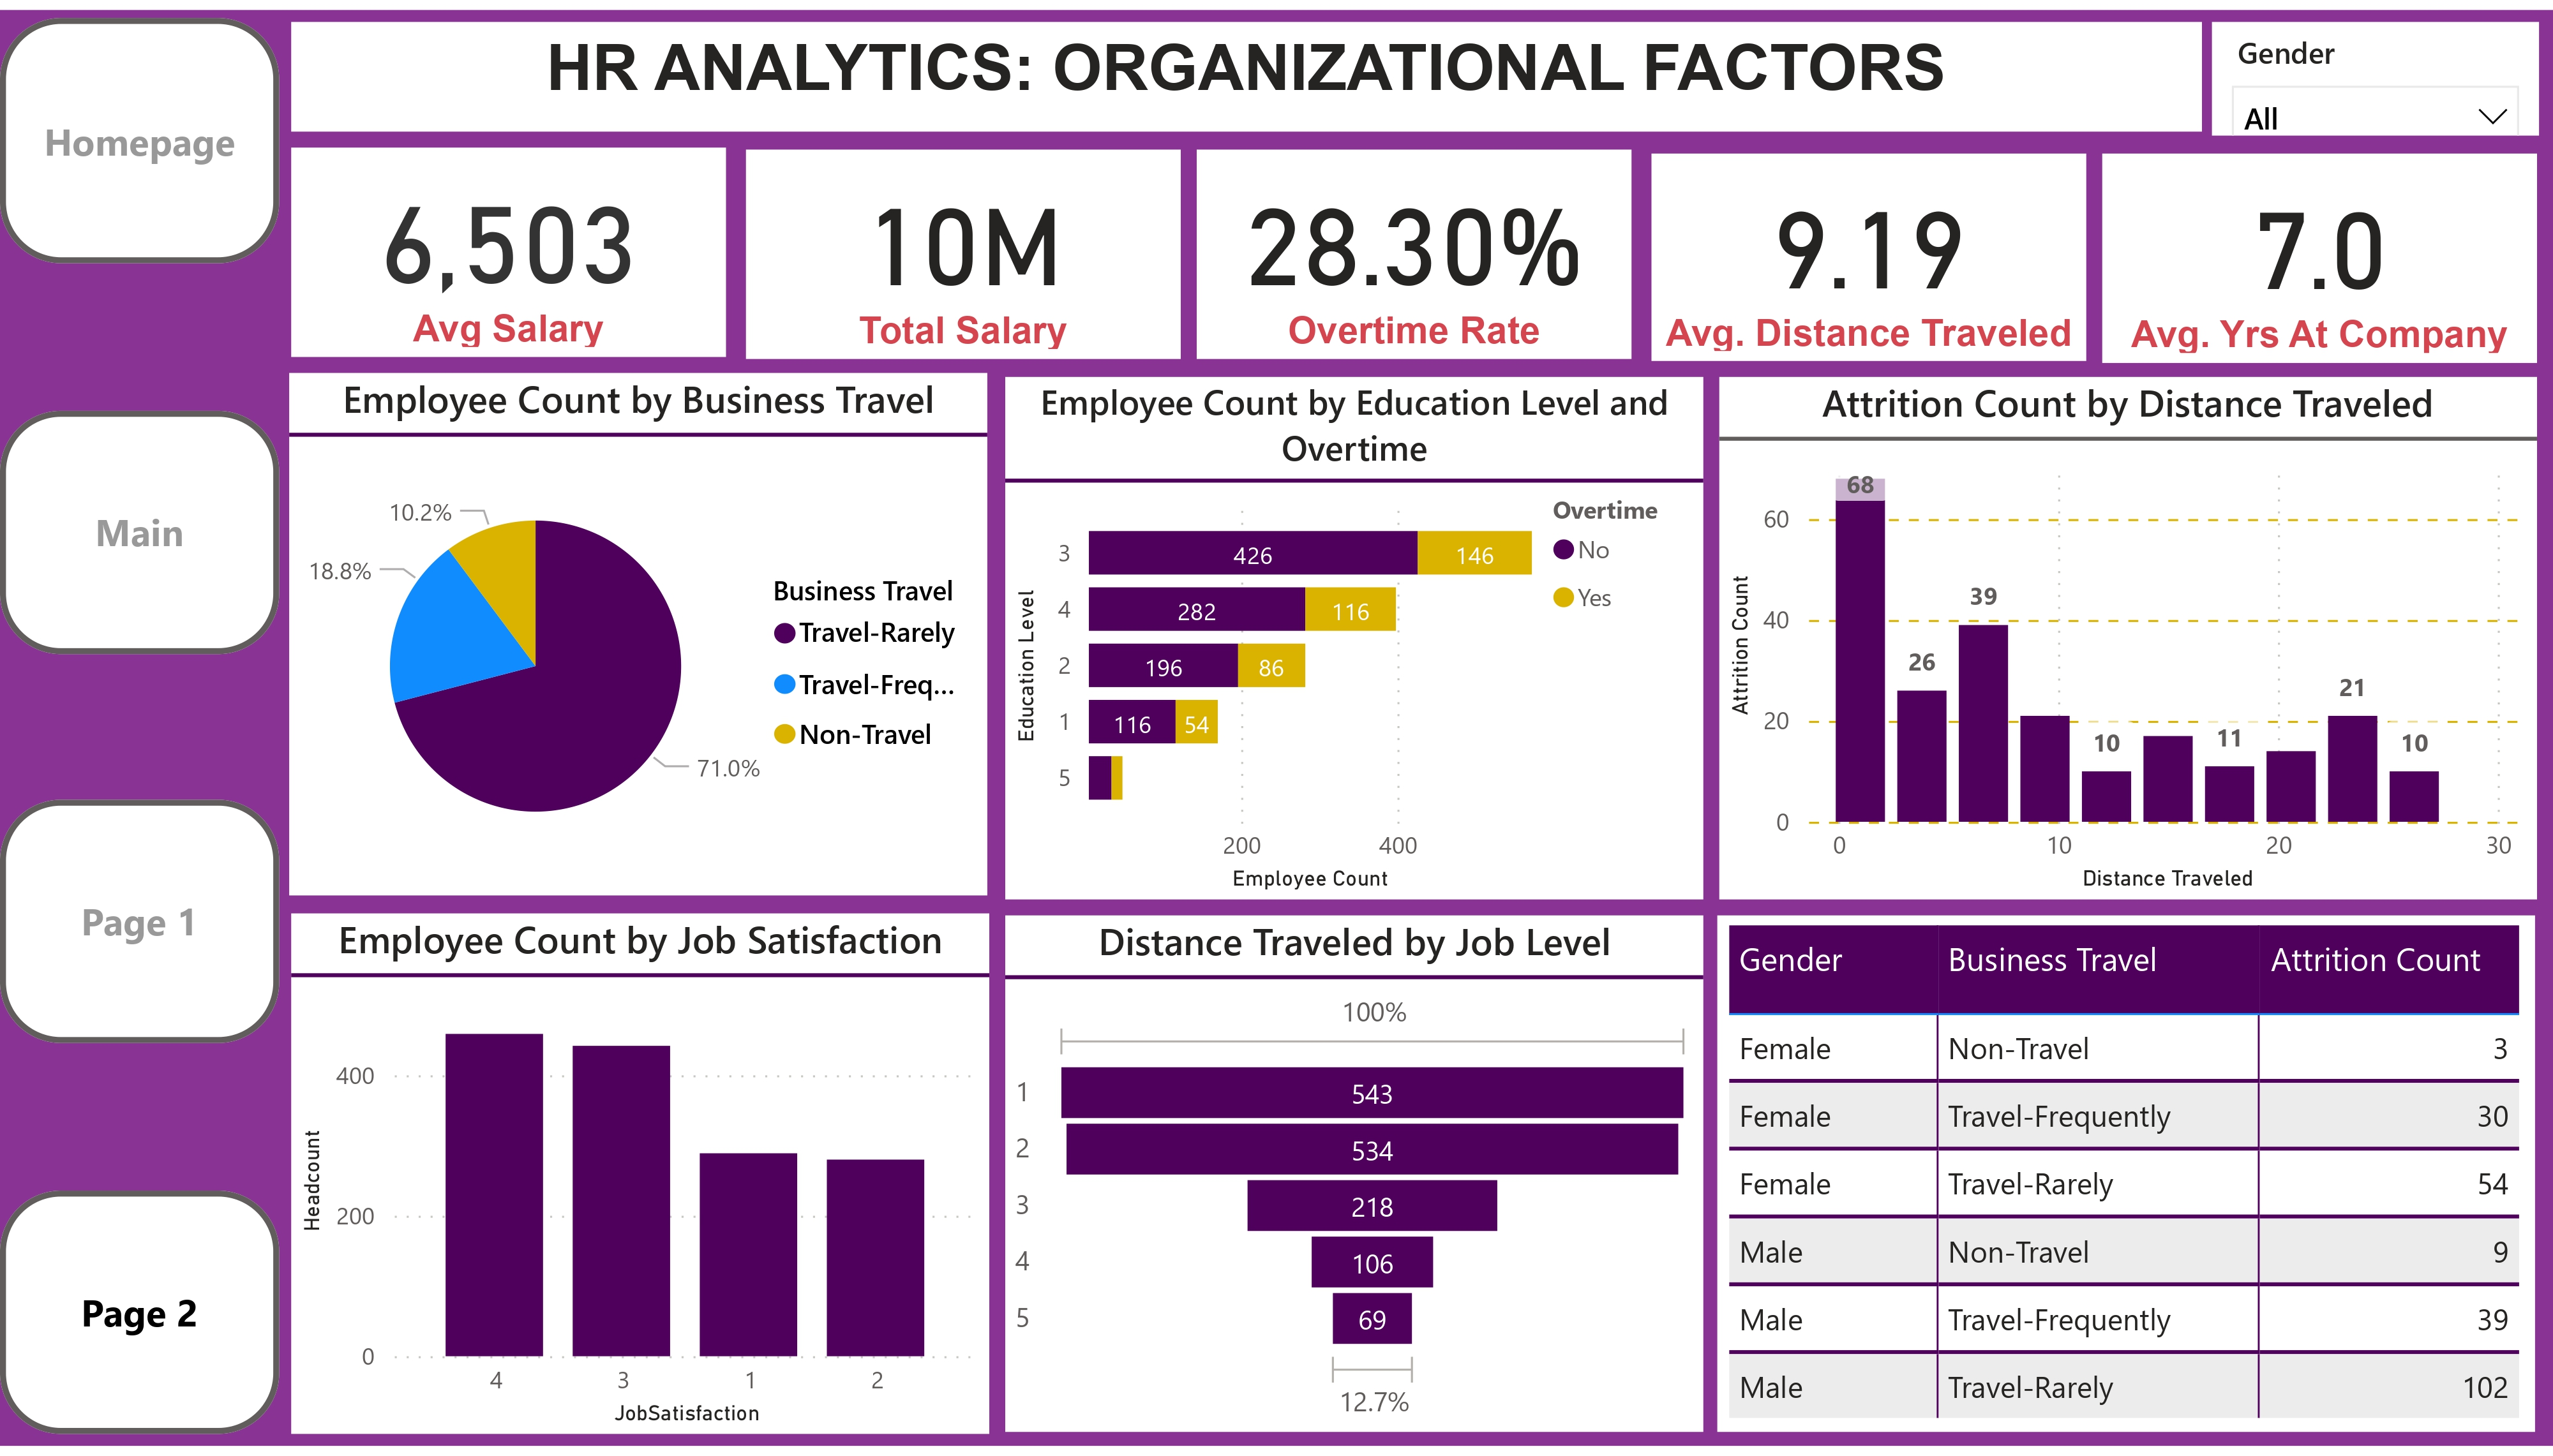

The page's visual inventory and layout, read from the dashboard file:
{"tool":"powerbi","page":{"name":"P2","canvas":[1280,720],"ordinal":3},"visuals":[{"type":"pieChart","fields":{"Category":["Analysed_HR_Data.BusinessTravel"],"Y":["Sum(Analysed_HR_Data.EmployeeCount)"]},"box":[144.9,182.1,350.5,262],"z":0},{"type":"barChart","title":"Employee Count by Education Level and Overtime","fields":{"Category":["Analysed_HR_Data.Education Level"],"Series":["Analysed_HR_Data.OverTime"],"Y":["Sum(Analysed_HR_Data.EmployeeCount)"]},"box":[503.7,183.5,350.5,262.2],"z":1000},{"type":"columnChart","title":"Employee Count by Job Satisfaction","fields":{"Category":["Analysed_HR_Data.JobSatisfaction"],"Y":["Analysed_HR_Data.Headcount"]},"box":[146.3,452.6,350.5,260.8],"z":2000},{"type":"funnel","title":"Distance Traveled by Job Level","fields":{"Category":["Analysed_HR_Data.JobLevel"],"Y":["CountNonNull(Analysed_HR_Data.DistanceTraveled)"]},"box":[503.7,454,350.5,259.4],"z":3000},{"type":"card","fields":{"Values":["Analysed_HR_Data.Avg Salary"]},"box":[146.3,69,218,104.9],"z":4000},{"type":"card","fields":{"Values":["Analysed_HR_Data.Total Salary"]},"box":[374,70.4,218,104.9],"z":5000},{"type":"card","fields":{"Values":["Analysed_HR_Data.Overtime Rate"]},"box":[600.3,70.4,218,104.9],"z":6000},{"type":"card","fields":{"Values":["Analysed_HR_Data.Avg CommutingDistance"]},"box":[827.9,71.8,218,104],"z":7000},{"type":"card","fields":{"Values":["Analysed_HR_Data.Avg YearsAtCompany"]},"box":[1054.3,71.8,218,104.9],"z":8000},{"type":"lineStackedColumnComboChart","title":"Attrition Count by Distance Traveled","fields":{"Category":["Analysed_HR_Data.DistanceTraveled"],"Y":["Analysed_HR_Data.Attrition Count"]},"box":[862.4,183.5,409.8,262],"z":9000},{"type":"tableEx","fields":{"Values":["Analysed_HR_Data.Gender","Analysed_HR_Data.BusinessTravel","Analysed_HR_Data.Attrition Count"]},"box":[861.1,454,409.8,259.4],"z":10000},{"type":"textbox","box":[145.9,6,957.6,55.5],"z":11000},{"type":"slicer","fields":{"Values":["Analysed_HR_Data.Gender"]},"box":[1109.5,5.5,164.2,56.6],"z":12000},{"type":"actionButton","box":[0,200.6,140,122],"z":13000},{"type":"actionButton","box":[0,396.3,140,122],"z":14000},{"type":"actionButton","box":[0,592,140,122],"z":15000},{"type":"actionButton","box":[0,4.1,140,122.8],"z":16000}]}

Visuals, with their boxes in screenshot pixels (x1, y1, x2, y2), scaled from the page's 1280x720 canvas onto the 2553x1456 screenshot:
pieChart - Analysed_HR_Data.BusinessTravel x Sum(Analysed_HR_Data.EmployeeCount): bbox=(289, 368, 988, 898)
"Employee Count by Education Level and Overtime" barChart: bbox=(1005, 371, 1703, 902)
"Employee Count by Job Satisfaction" columnChart: bbox=(292, 915, 991, 1443)
"Distance Traveled by Job Level" funnel: bbox=(1005, 918, 1703, 1443)
card - Analysed_HR_Data.Avg Salary: bbox=(292, 140, 726, 352)
card - Analysed_HR_Data.Total Salary: bbox=(746, 142, 1181, 355)
card - Analysed_HR_Data.Overtime Rate: bbox=(1197, 142, 1632, 355)
card - Analysed_HR_Data.Avg CommutingDistance: bbox=(1651, 145, 2086, 355)
card - Analysed_HR_Data.Avg YearsAtCompany: bbox=(2103, 145, 2538, 357)
"Attrition Count by Distance Traveled" lineStackedColumnComboChart: bbox=(1720, 371, 2538, 901)
tableEx - Analysed_HR_Data.Gender x Analysed_HR_Data.BusinessTravel: bbox=(1718, 918, 2535, 1443)
textbox: bbox=(291, 12, 2201, 124)
slicer - Analysed_HR_Data.Gender: bbox=(2213, 11, 2540, 126)
actionButton: bbox=(0, 406, 280, 652)
actionButton: bbox=(0, 801, 280, 1048)
actionButton: bbox=(0, 1197, 280, 1444)
actionButton: bbox=(0, 8, 280, 256)
